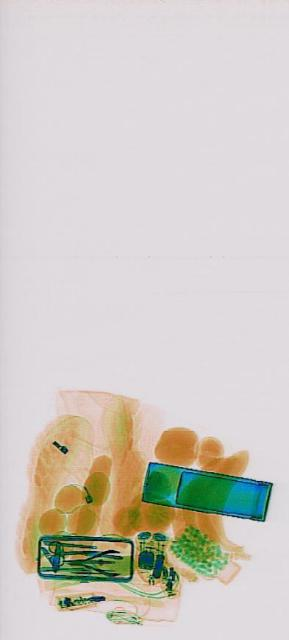Pliers: (63, 546, 118, 578)
Scissors: (46, 536, 97, 568)
